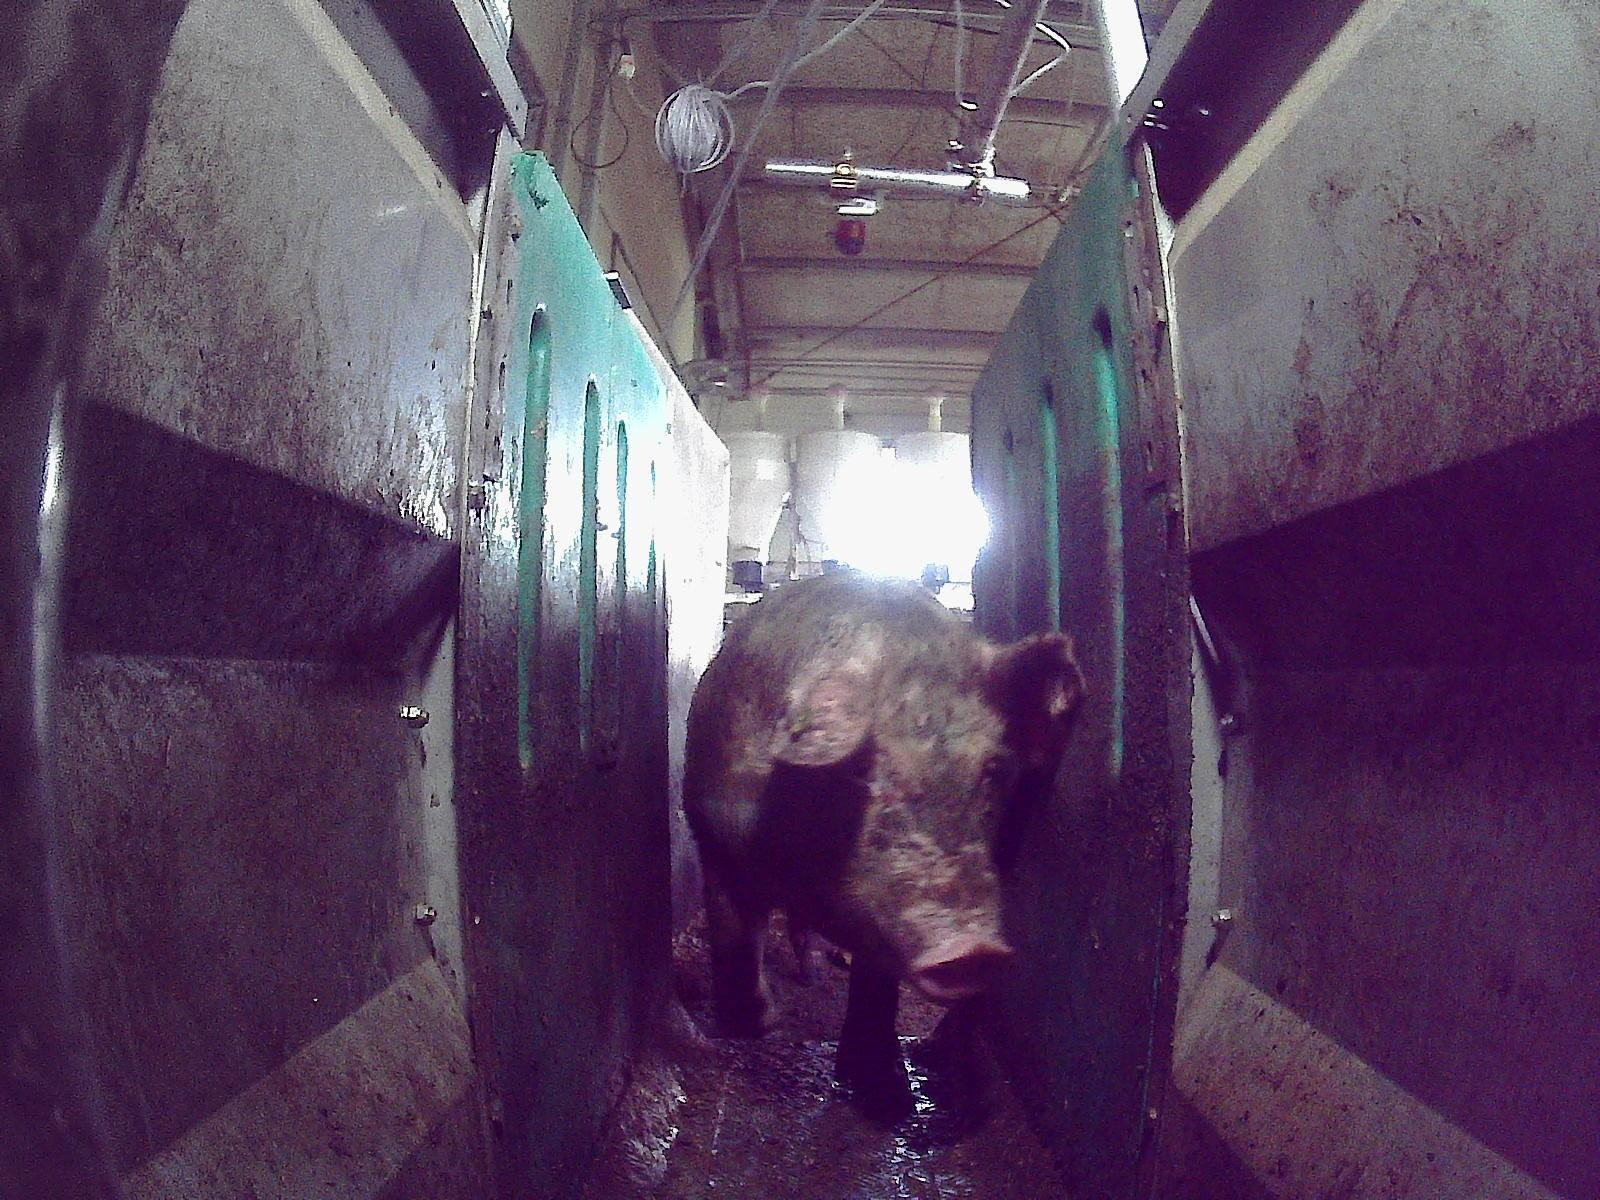Face: (779, 639, 1032, 1006)
